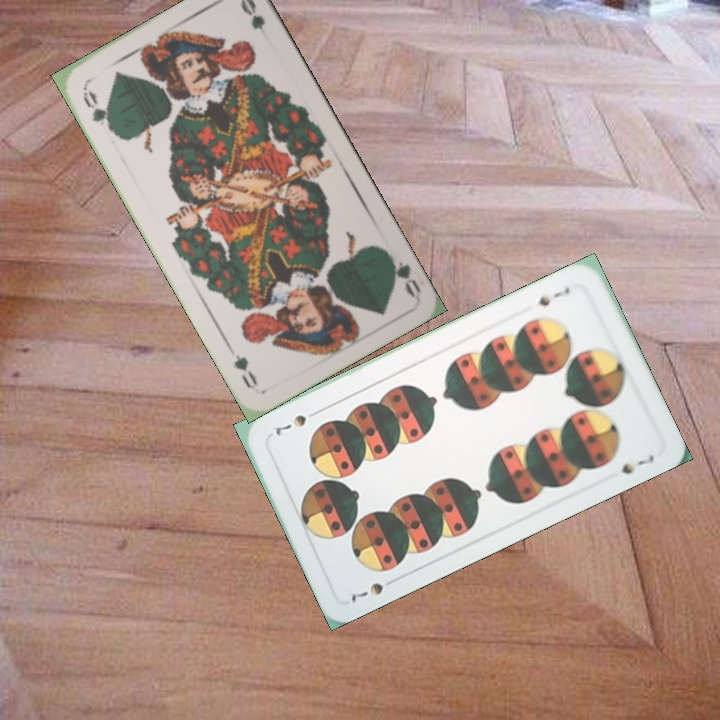GO: (379, 247, 424, 300), (78, 84, 117, 136)
S7: (347, 573, 400, 606), (534, 283, 572, 309)
